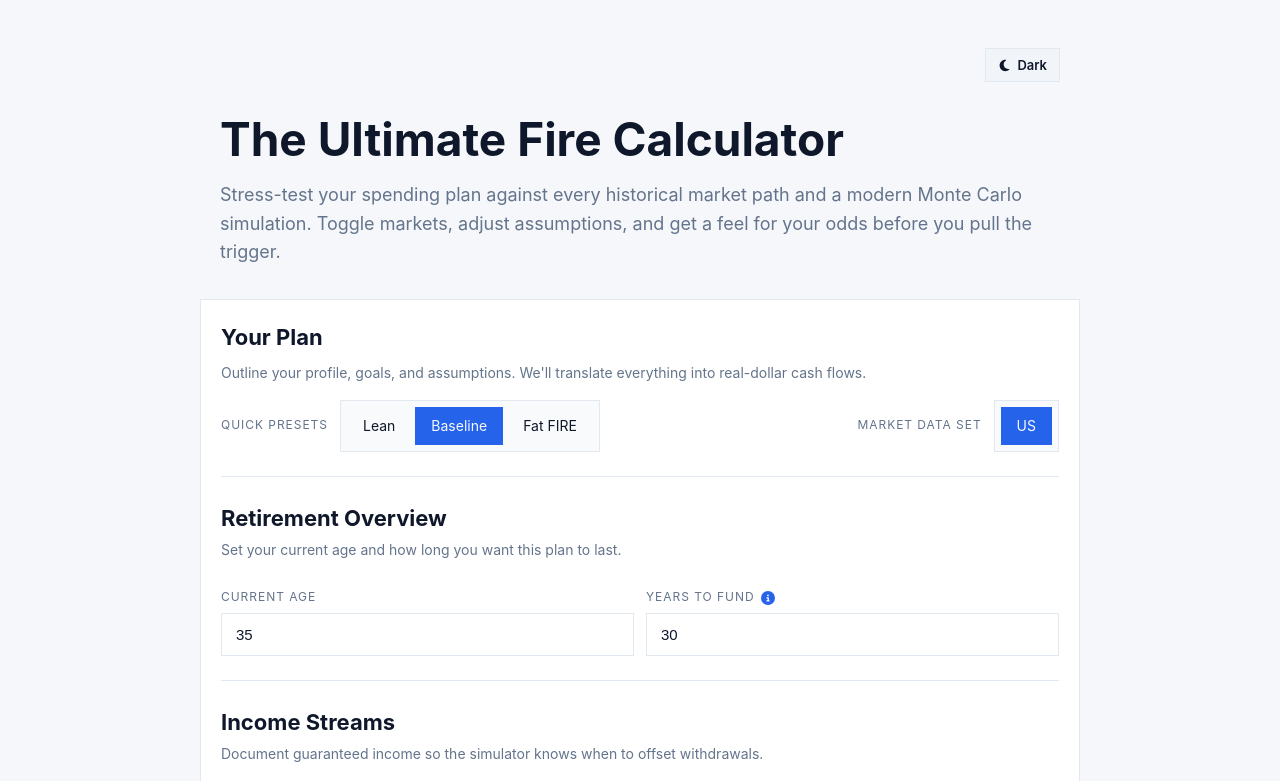
it: App › applies presets without throwing
Expected: the text "Quick presets" is shown, [221,416,328,435]
What coordinates should you click on to do the following:
click the button "Fat FIRE"
I would click on:
 (550, 426)
Its box is [507,407,593,445].
(page scrolled)
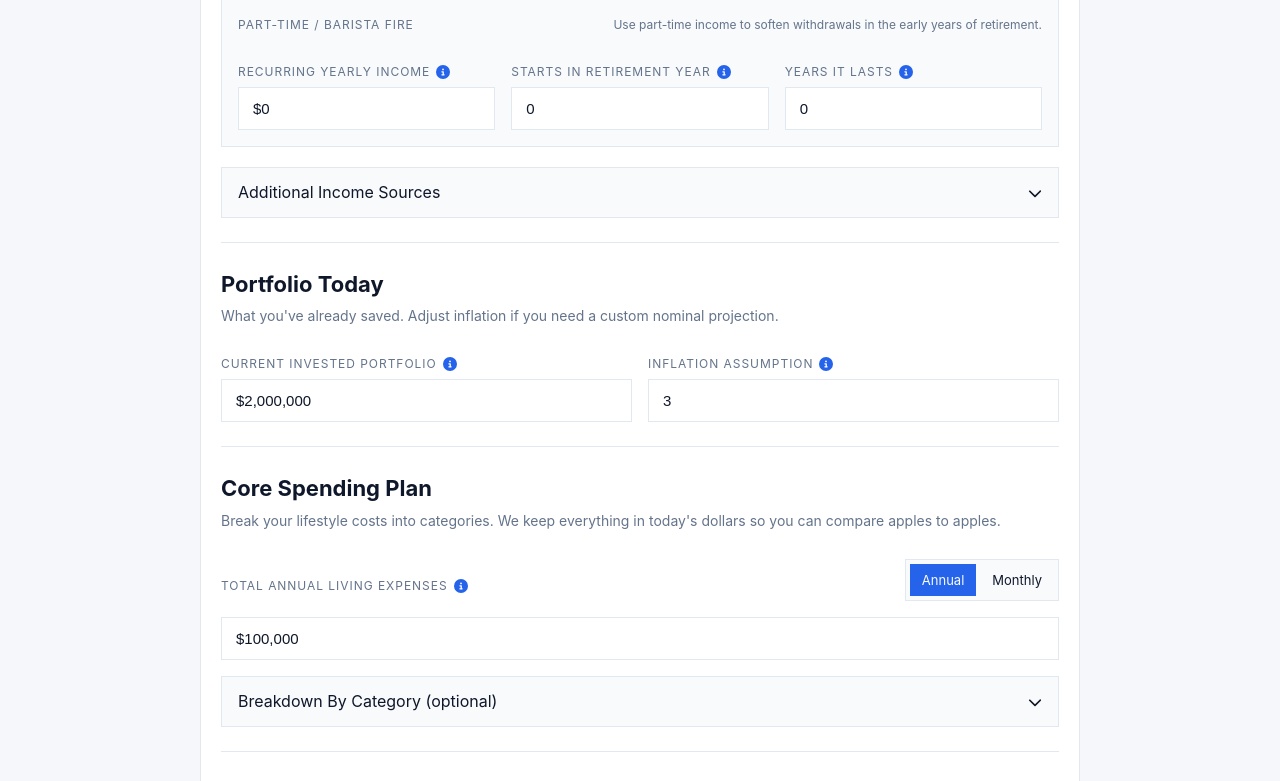
Expected: the field showing "$2,000,000" below "Current invested portfolio" is shown, [221,380,632,422]
